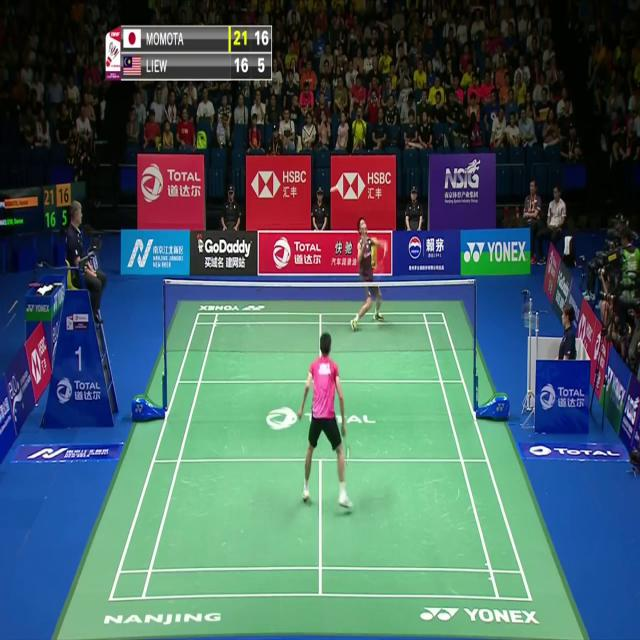Shuttlecock: (330, 182, 336, 193)
